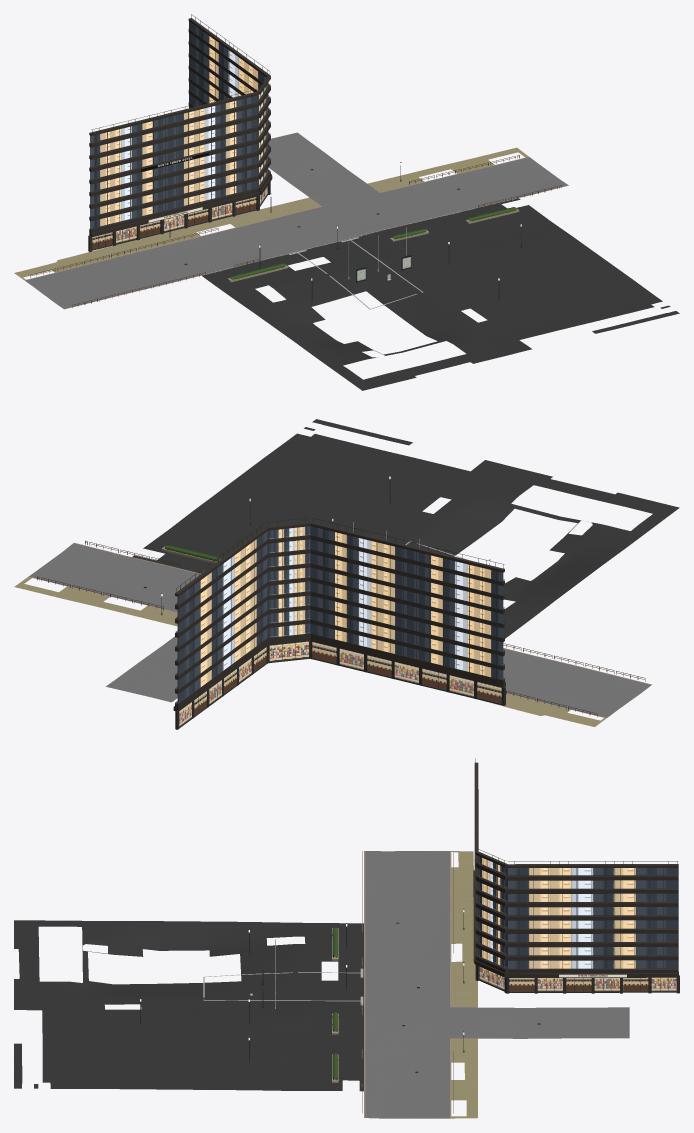
The model's file is karasuma.glb.
3 views of the same model, one above another, from view 1: azimuth 30°, elevation 25°; view 2: azimuth 150°, elevation 25°; view 3: azimuth 270°, elevation 25° (orthographic). The views are drawn at different scales.
Visible parts, largest first — view 1: karasuma_ground_plaza, karasuma_ground_asphalt, karasuma_glow_win, karasuma_bronze, karasuma_ground_paver, karasuma_ground_white, karasuma_bronze_rail, karasuma_glow_shop, karasuma_metal_brown, karasuma_ground_kerb, karasuma_pier, karasuma_ground_patch (+2 smaller); view 2: karasuma_ground_plaza, karasuma_glow_win, karasuma_bronze, karasuma_ground_asphalt, karasuma_glow_shop, karasuma_ground_paver, karasuma_bronze_rail, karasuma_pier, karasuma_metal_brown, karasuma_ground_white, karasuma_ground_kerb, karasuma_ground_patch; view 3: karasuma_ground_plaza, karasuma_ground_asphalt, karasuma_glow_win, karasuma_bronze, karasuma_ground_paver, karasuma_ground_white, karasuma_bronze_rail, karasuma_glow_shop, karasuma_ground_kerb, karasuma_pier, karasuma_ground_patch.
Part boxes in pixels (left/top/right/bottom): karasuma_ground_plaza: left=202, top=198, right=679, bottom=390; karasuma_ground_asphalt: left=25, top=132, right=568, bottom=308; karasuma_glow_win: left=90, top=21, right=267, bottom=228; karasuma_bronze: left=89, top=18, right=272, bottom=237; karasuma_ground_paver: left=14, top=147, right=528, bottom=280; karasuma_ground_white: left=26, top=142, right=567, bottom=308; karasuma_bronze_rail: left=91, top=14, right=270, bottom=229; karasuma_glow_shop: left=92, top=186, right=267, bottom=249; karasuma_metal_brown: left=30, top=155, right=561, bottom=307; karasuma_ground_kerb: left=24, top=157, right=568, bottom=309; karasuma_pier: left=88, top=182, right=270, bottom=251; karasuma_ground_patch: left=104, top=192, right=522, bottom=276; karasuma_ground_plaza: left=132, top=419, right=679, bottom=638; karasuma_glow_win: left=178, top=526, right=503, bottom=703; karasuma_bronze: left=173, top=522, right=505, bottom=711; karasuma_ground_asphalt: left=29, top=543, right=651, bottom=717; karasuma_glow_shop: left=179, top=641, right=501, bottom=726; karasuma_ground_paver: left=14, top=577, right=605, bottom=726; karasuma_bronze_rail: left=175, top=517, right=504, bottom=703; karasuma_pier: left=175, top=641, right=505, bottom=729; karasuma_metal_brown: left=37, top=540, right=645, bottom=716; karasuma_ground_white: left=30, top=544, right=650, bottom=717; karasuma_ground_kerb: left=28, top=543, right=651, bottom=718; karasuma_ground_patch: left=116, top=557, right=552, bottom=687; karasuma_ground_plaza: left=14, top=920, right=363, bottom=1091; karasuma_ground_asphalt: left=365, top=851, right=629, bottom=1118; karasuma_glow_win: left=478, top=856, right=678, bottom=968; karasuma_bronze: left=473, top=762, right=678, bottom=977; karasuma_ground_paver: left=451, top=851, right=477, bottom=1118; karasuma_ground_white: left=367, top=851, right=619, bottom=1118; karasuma_bronze_rail: left=475, top=758, right=678, bottom=969; karasuma_glow_shop: left=479, top=967, right=676, bottom=991; karasuma_ground_kerb: left=364, top=851, right=451, bottom=1118; karasuma_pier: left=475, top=965, right=679, bottom=993; karasuma_ground_patch: left=370, top=885, right=419, bottom=1095.
Bounding box in the file's own units: 140 × 34.05 × 147.
23 materials, 14 textured.
